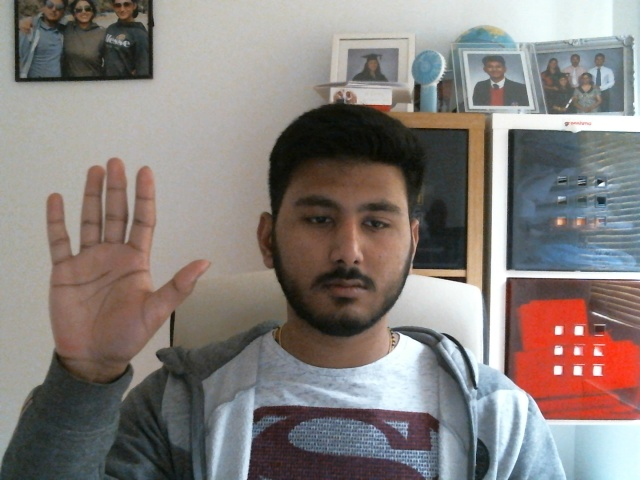hello: (45, 156, 209, 369)
